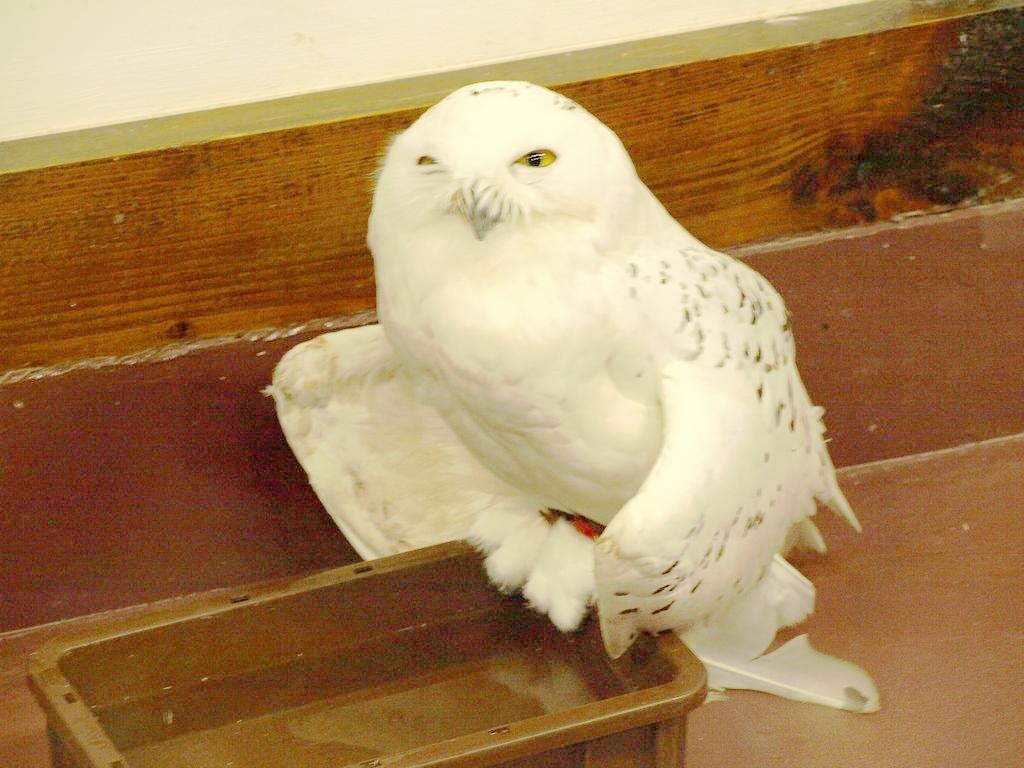Owl: (256, 78, 888, 714)
